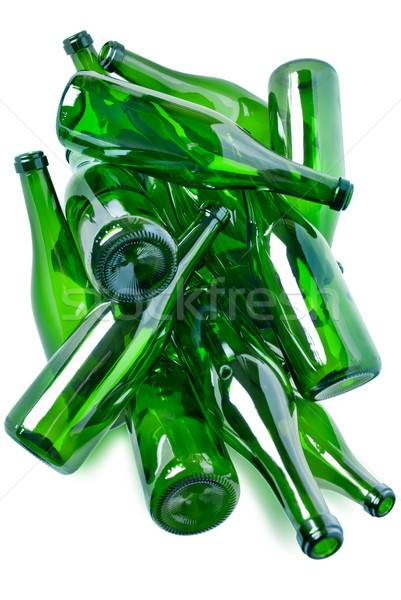glass: (0, 14, 401, 568)
